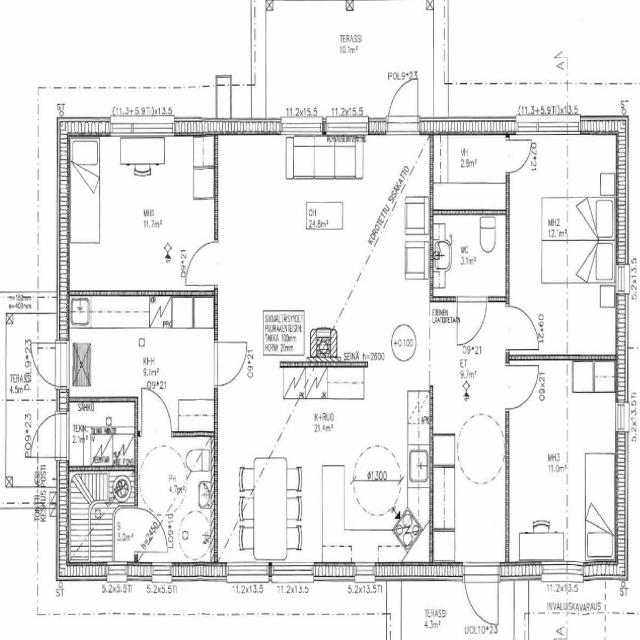door: (464, 562, 498, 630), (26, 413, 70, 458), (388, 73, 418, 135), (27, 343, 69, 386), (505, 365, 539, 409), (142, 388, 172, 437), (215, 342, 248, 386), (134, 508, 167, 552), (185, 242, 218, 285), (457, 297, 486, 345), (506, 306, 538, 349), (505, 140, 531, 172)
